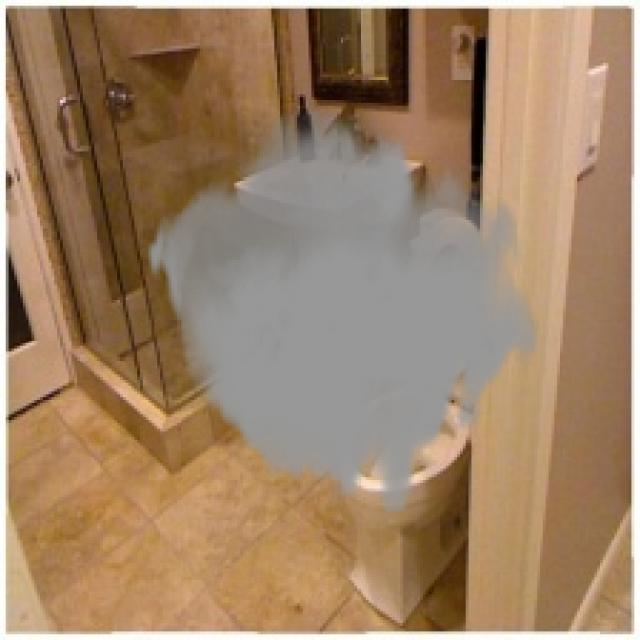smoke: (146, 111, 540, 512)
